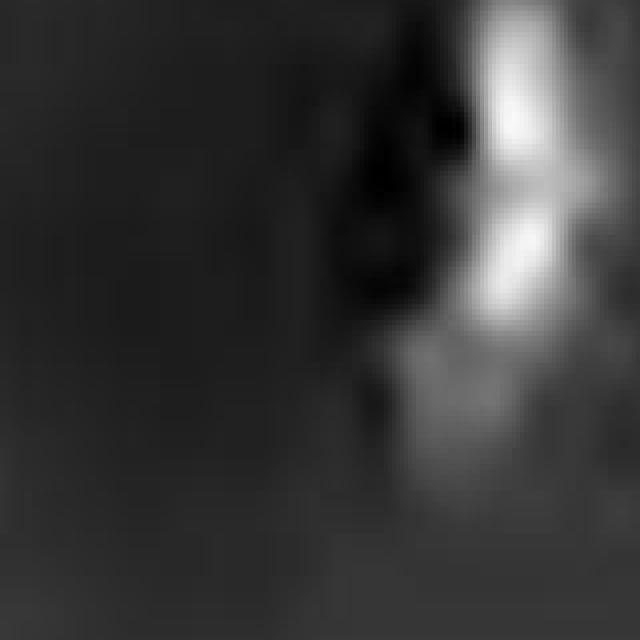person: (366, 12, 622, 531)
